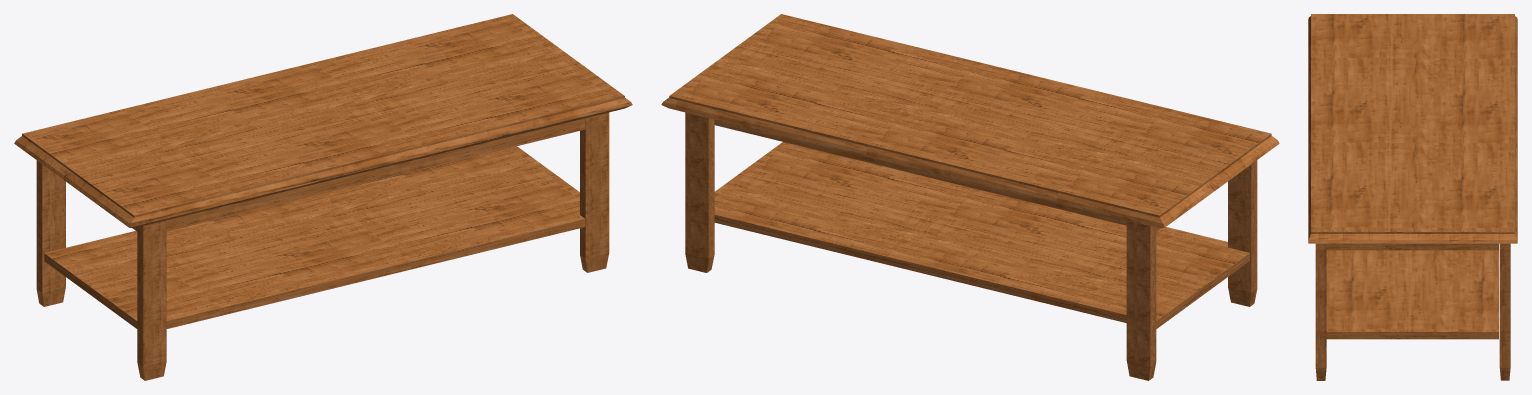
File: coffee-table.fbx
The picture shows the model from 3 angles, left to right: view 1: azimuth 30°, elevation 25°; view 2: azimuth 150°, elevation 25°; view 3: azimuth 270°, elevation 25°; orthographic projection. The views are drawn at different scales.
Visible parts, largest first — view 1: polySurface25; view 2: polySurface25; view 3: polySurface25.
Part boxes in pixels (left/top/right/bottom): polySurface25: left=14, top=14, right=632, bottom=380; polySurface25: left=661, top=14, right=1279, bottom=380; polySurface25: left=1308, top=14, right=1517, bottom=380.
Size of the model in its own units: 37.11 by 12.04 by 14.68.
Materials: 1 (1 with a texture image).
